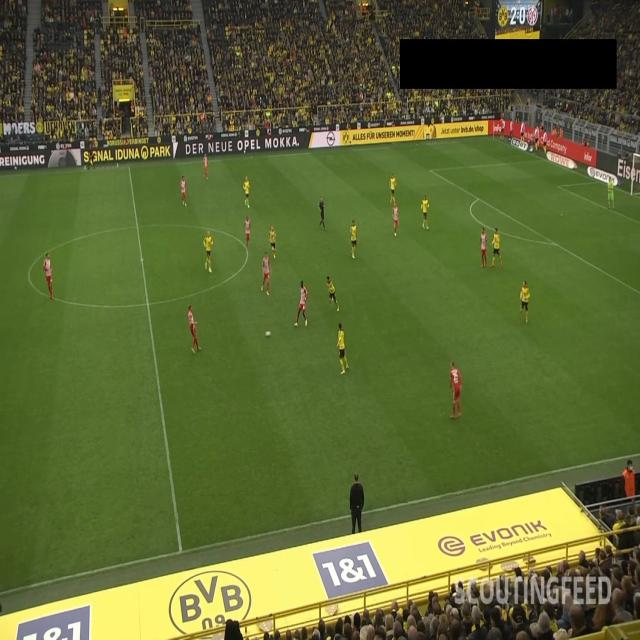ball: (264, 330, 272, 337)
